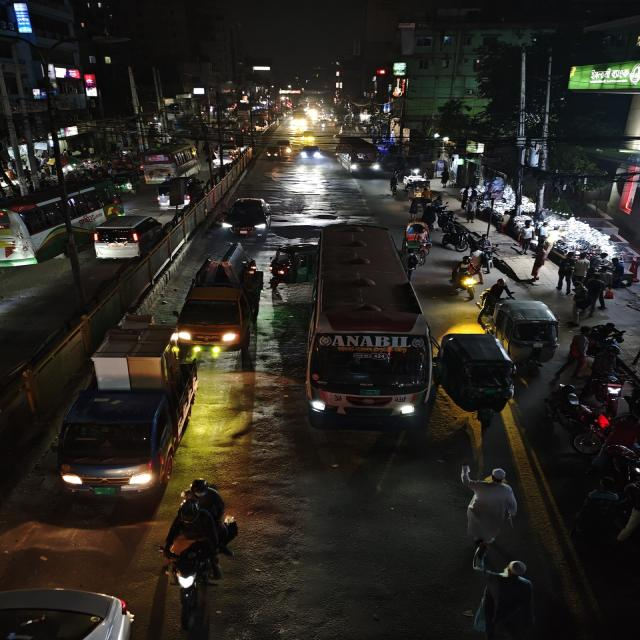bus: (310, 214, 434, 417), (0, 176, 129, 270), (334, 135, 381, 179), (142, 152, 202, 178)
car: (87, 212, 169, 262), (221, 193, 273, 239), (154, 177, 212, 216), (296, 143, 324, 164)
cng: (439, 326, 515, 417), (490, 296, 560, 360), (268, 240, 318, 288), (263, 145, 281, 161)
motorcycle: (159, 482, 239, 626), (548, 387, 612, 457), (585, 340, 633, 408), (452, 251, 481, 296)
pedestrian: (469, 545, 537, 640), (453, 454, 515, 553)
pickup_van: (46, 320, 195, 497), (180, 251, 258, 356)
rickshaw: (402, 220, 436, 260)
